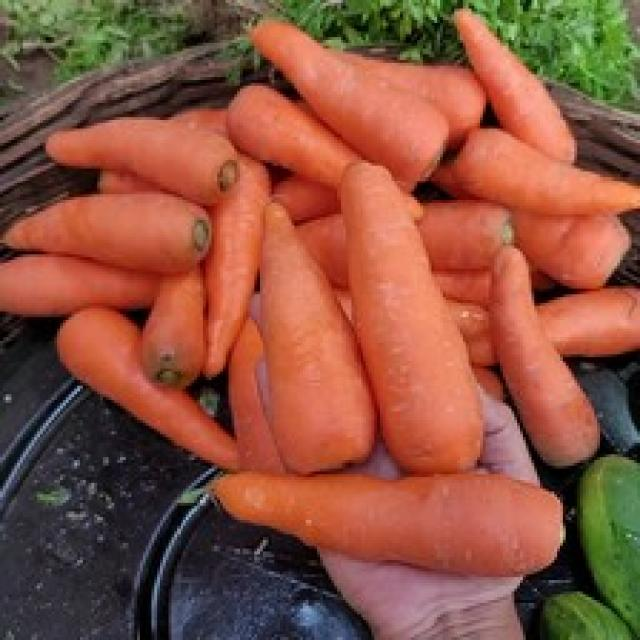Fresh_Carrot: (146, 445, 591, 584), (332, 159, 498, 468), (251, 194, 369, 483), (256, 13, 457, 172), (54, 86, 251, 191), (35, 194, 212, 281)
